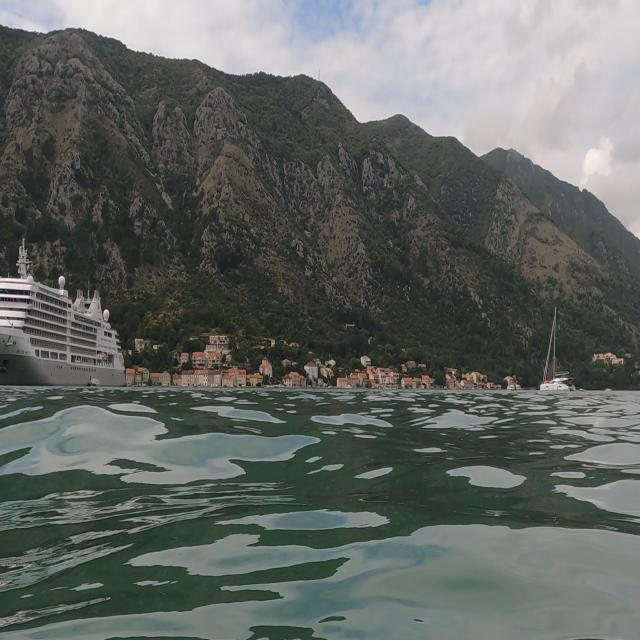boat: (1, 230, 128, 390), (534, 296, 578, 416)
